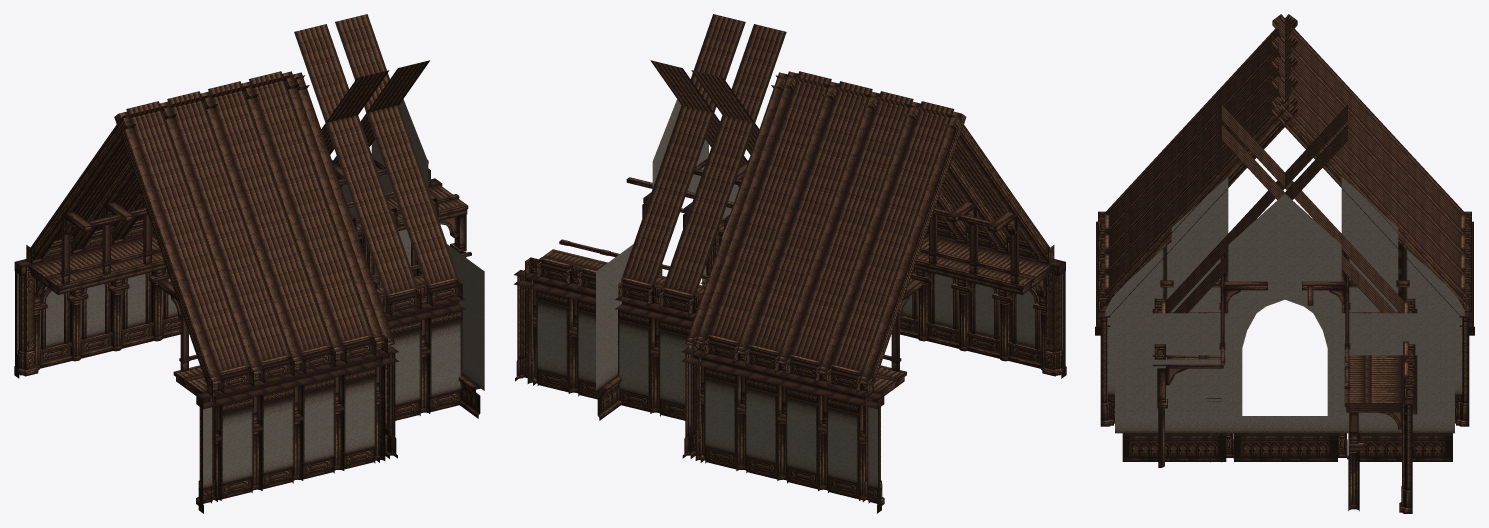
Rendered from EnvBdgMD_Church_Mount_A_Indoor.FBX.
3 views of the same model, side by side, from view 1: azimuth 30°, elevation 25°; view 2: azimuth 150°, elevation 25°; view 3: azimuth 270°, elevation 25° (orthographic).
Parts seen in each view (by area): view 1: EnvBdgMD_Church_Mount_A_Indoor; view 2: EnvBdgMD_Church_Mount_A_Indoor; view 3: EnvBdgMD_Church_Mount_A_Indoor.
Boxes of the visible parts, x1=… form: EnvBdgMD_Church_Mount_A_Indoor: x1=14, y1=14, x2=484, y2=513; EnvBdgMD_Church_Mount_A_Indoor: x1=514, y1=14, x2=1066, y2=513; EnvBdgMD_Church_Mount_A_Indoor: x1=1095, y1=14, x2=1474, y2=513.
Size of the model in its own units: 2410 by 1969 by 2010.
